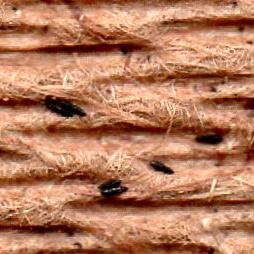egg: (58, 99, 85, 116), (48, 99, 73, 117), (98, 178, 120, 190), (150, 161, 173, 172), (196, 135, 221, 143), (102, 188, 128, 195)
